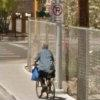Bicycle: (23, 52, 61, 100)
